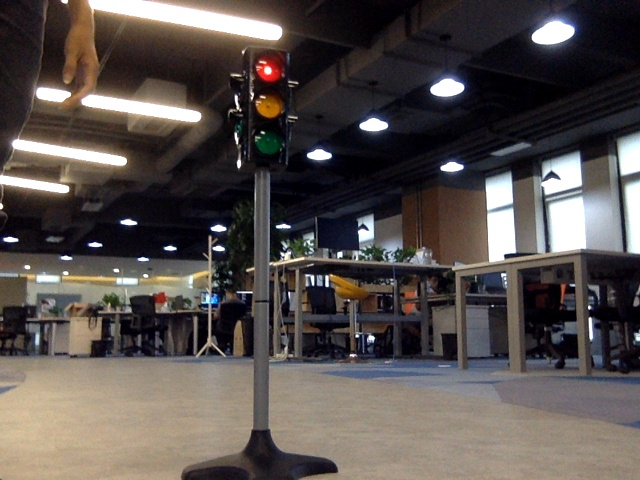red: (248, 52, 287, 162)
